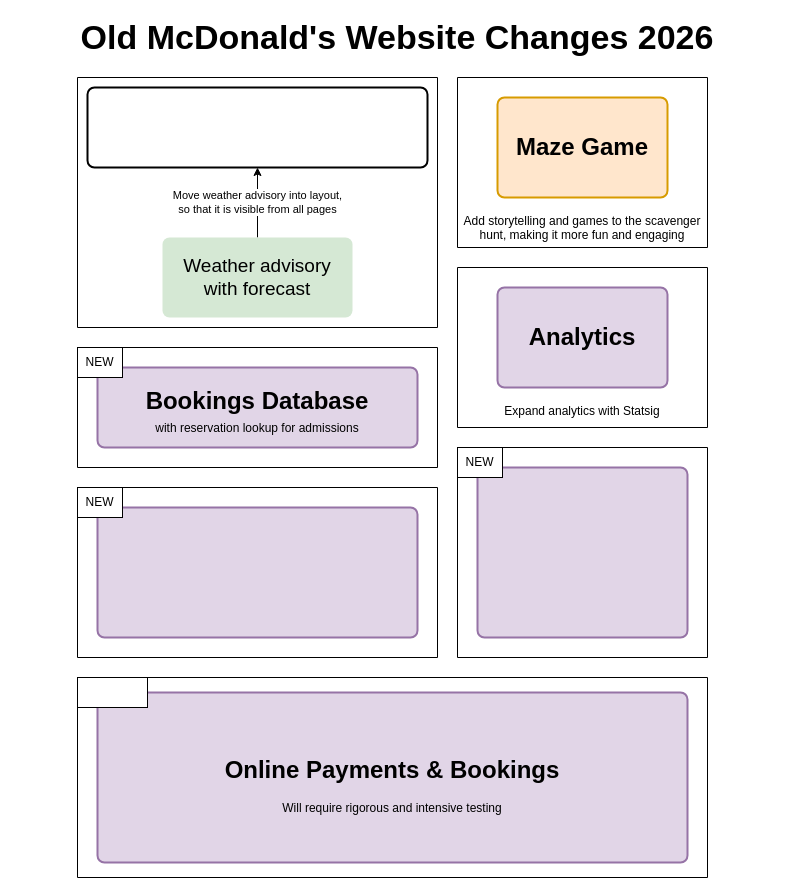
The diagram is 794 pixels wide and 895 high, and some of its shapes have lost their labels. The shapes that lost their labels are listed below. From the top down, each one's centre as x and y in pixels, then its label:
At point (257, 127): "Layout Header, Footer, Cookie Notice".
At point (257, 572): "Employee Scheduling May not require website feature; could just be a spreadsheet".
At point (582, 552): "Website Config Interfaces for Weather, Calendar, Pricing, etc.".
At point (112, 692): "MAYBE??".
